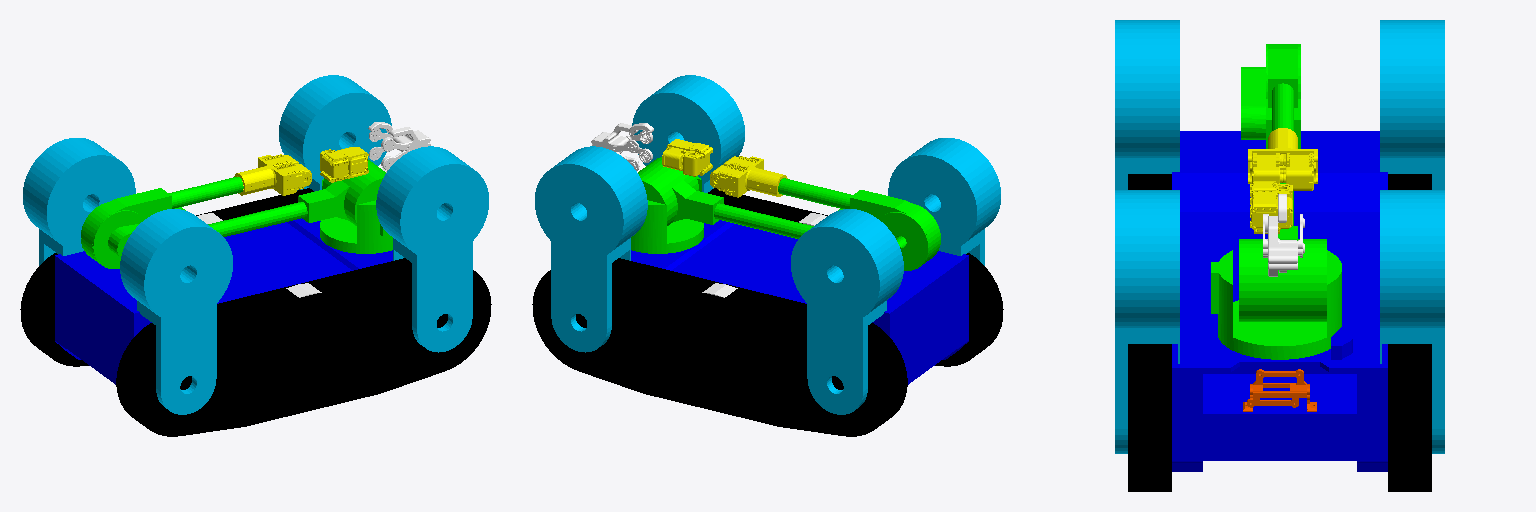
--- Render facts (derived) ---
The picture shows the robot from 3 angles, left to right: view 1: azimuth 30°, elevation 25°; view 2: azimuth 150°, elevation 25°; view 3: azimuth 270°, elevation 25°; orthographic projection.
Model arbie with 44 links and 43 joints (4 revolute, 13 continuous, 26 fixed), rooted at base_link, posed all joints at 0.
Visible links, largest first — view 1: tracks_right_link, flipper_front_right_link, flipper_rear_right_link, body_link, flipper_rear_left_link, flipper_front_left_link, arm_lower_link, tracks_left_link, arm_upper_link, arm_base_link, wrist_base_link, wrist_yaw_link (+1 smaller); view 2: tracks_left_link, flipper_front_left_link, flipper_rear_left_link, body_link, flipper_rear_right_link, flipper_front_right_link, arm_lower_link, tracks_right_link, arm_upper_link, arm_base_link, wrist_base_link, wrist_yaw_link (+1 smaller); view 3: body_link, flipper_front_right_link, flipper_front_left_link, flipper_rear_right_link, flipper_rear_left_link, arm_lower_link, tracks_right_link, tracks_left_link, arm_base_link, wrist_base_link, arm_upper_link, wrist_yaw_link (+2 smaller).
Boxes of the visible links, x1,y1,x2,y2 form: tracks_right_link: [116, 258, 491, 436]; flipper_front_right_link: [376, 146, 488, 352]; flipper_rear_right_link: [120, 209, 232, 414]; body_link: [55, 218, 392, 384]; flipper_rear_left_link: [23, 138, 135, 265]; flipper_front_left_link: [279, 75, 391, 191]; arm_lower_link: [81, 160, 385, 268]; tracks_left_link: [20, 188, 313, 366]; arm_upper_link: [81, 177, 243, 263]; arm_base_link: [320, 179, 392, 253]; wrist_base_link: [234, 154, 311, 195]; wrist_yaw_link: [320, 147, 368, 182]; tracks_left_link: [532, 258, 907, 436]; flipper_front_left_link: [535, 146, 647, 352]; flipper_rear_left_link: [791, 209, 903, 414]; body_link: [631, 220, 968, 384]; flipper_rear_right_link: [888, 138, 1000, 265]; flipper_front_right_link: [632, 75, 744, 192]; arm_lower_link: [638, 157, 940, 270]; tracks_right_link: [708, 188, 1003, 366]; arm_upper_link: [778, 178, 939, 263]; arm_base_link: [631, 176, 703, 253]; wrist_base_link: [710, 156, 787, 197]; wrist_yaw_link: [662, 139, 712, 176]; body_link: [1172, 131, 1387, 471]; flipper_front_right_link: [1115, 190, 1179, 453]; flipper_front_left_link: [1380, 190, 1444, 453]; flipper_rear_right_link: [1115, 20, 1179, 189]; flipper_rear_left_link: [1380, 20, 1444, 189]; arm_lower_link: [1239, 44, 1326, 321]; tracks_right_link: [1128, 174, 1171, 491]; tracks_left_link: [1388, 174, 1431, 491]; arm_base_link: [1211, 250, 1341, 359]; wrist_base_link: [1248, 128, 1317, 190]; arm_upper_link: [1268, 44, 1297, 130]; wrist_yaw_link: [1250, 181, 1292, 233].
Size in the robot's own frame: 0.6448 by 0.378 by 0.3753 metres.
Meshes: 25 distinct files referenced, 21 mesh visuals loaded (21 binary STL); not drawn: 4 (reference not matched to a file when rendering).

URDF robot description (arbie):
<?xml version="1.0" encoding="utf-8"?>
<!-- =================================================================================== -->
<!-- |    This document was autogenerated by xacro from ../model/arbie.urdf.xacro      | -->
<!-- |    EDITING THIS FILE BY HAND IS NOT RECOMMENDED                                 | -->
<!-- =================================================================================== -->
<robot name="arbie">
  <material name="body">
    <color rgba="0 0 1 1"/>
  </material>
  <material name="flipper">
    <color rgba="0 0.8 1 1"/>
  </material>
  <material name="tracks">
    <color rgba="0 0 0 0.5"/>
  </material>
  <material name="wheel">
    <color rgba="1 1 1 0.8"/>
  </material>
  <material name="arm">
    <color rgba="0 1 0 1"/>
  </material>
  <material name="wrist">
    <color rgba="1 1 0 1"/>
  </material>
  <material name="gripper">
    <color rgba="1 1 1 1"/>
  </material>
  <material name="camera">
    <color rgba="1 0.4 0 1"/>
  </material>
  <!-- BASE LINK -->
  <!-- At rotational centre of robot -->
  <link name="base_link">
</link>
  <joint name="base_joint" type="fixed">
    <origin rpy="1.5708 0 1.5708" xyz="0.01 0 0.075"/>
    <parent link="base_link"/>
    <child link="body_link"/>
  </joint>
  <!-- BODY LINK -->
  <link name="body_link">
    <inertial>
      <origin rpy="0 0 0" xyz="-0.0007103904794560104 0.04685539726506198 -0.03652499028281223"/>
      <mass value="132.38352048208554"/>
      <inertia ixx="3.87908" ixy="-0.00108" ixz="-0.002599" iyy="4.409886" iyz="0.163573" izz="0.920138"/>
    </inertial>
    <visual>
      <origin rpy="0 0 0" xyz="0 0 0"/>
      <geometry>
        <mesh filename="package://arbie_description/meshes/body.stl"/>
      </geometry>
      <material name="body"/>
    </visual>
    <collision>
      <origin rpy="0 0 0" xyz="0 0 0"/>
      <geometry>
        <mesh filename="package://arbie_description/meshes/body.stl"/>
      </geometry>
    </collision>
  </link>
  <!-- TRACK MESHES -->
  <!-- Bounding mesh for tracks, for collision detection -->
  <link name="tracks_right_link">
    <inertial>
      <origin rpy="0 0 0" xyz="-0.02499954358879042 0.002120489076708521 -0.0007430080149572974"/>
      <mass value="44.76242127990538"/>
      <inertia ixx="1.472289" ixy="-0.0" ixz="-0.0" iyy="1.350001" iyz="0.000109" izz="0.140939"/>
    </inertial>
    <visual>
      <origin rpy="0 0 0" xyz="0.124694 -0.019326 0.010978"/>
      <geometry>
        <mesh filename="package://arbie_description/meshes/tracks_right.stl"/>
      </geometry>
      <material name="tracks"/>
    </visual>
    <collision>
      <origin rpy="0 0 0" xyz="0.124694 -0.019326 0.010978"/>
      <geometry>
        <mesh filename="package://arbie_description/meshes/tracks_right.stl"/>
      </geometry>
    </collision>
  </link>
  <link name="tracks_left_link">
    <inertial>
      <origin rpy="0 0 0" xyz="0.02500045641121243 0.00212048907670849 -0.000743015955378042"/>
      <mass value="44.76242127990538"/>
      <inertia ixx="1.472289" ixy="-0.0" ixz="-0.0" iyy="1.350001" iyz="0.000109" izz="0.140939"/>
    </inertial>
    <visual>
      <origin rpy="0 0 0" xyz="-0.123306 -0.019326 0.010978"/>
      <geometry>
        <mesh filename="package://arbie_description/meshes/tracks_left.stl"/>
      </geometry>
      <material name="tracks"/>
    </visual>
    <collision>
      <origin rpy="0 0 0" xyz="-0.123306 -0.019326 0.010978"/>
      <geometry>
        <mesh filename="package://arbie_description/meshes/tracks_left.stl"/>
      </geometry>
    </collision>
  </link>
  <!-- RIGID JOINTS -->
  <joint name="rigid_body_to_tracks_right_joint" type="fixed">
    <origin rpy="0 0 0" xyz="-0.124694 0.019326 -0.010978"/>
    <parent link="body_link"/>
    <child link="tracks_right_link"/>
  </joint>
  <joint name="rigid_body_to_tracks_left_joint" type="fixed">
    <origin rpy="0 0 0" xyz="0.123306 0.019326 -0.010978"/>
    <parent link="body_link"/>
    <child link="tracks_left_link"/>
  </joint>
  <!-- CAMERA LINKS -->
  <link name="camera_mount_leg_1_link">
    <inertial>
      <origin rpy="0 0 0" xyz="-0.003687719231986318 0.005710165082249932 -1.3429420225863353e-07"/>
      <mass value="0.011972469965960587"/>
      <inertia ixx="1e-06" ixy="0.0" ixz="-0.0" iyy="0.0" iyz="0.0" izz="1e-06"/>
    </inertial>
    <visual>
      <origin rpy="0 0 0" xyz="-0.037807 -0.048101 -0.262572"/>
      <geometry>
        <mesh filename="package://arbie_description/meshes/camera_mount_leg_1.stl"/>
      </geometry>
      <material name="camera"/>
    </visual>
    <collision>
      <origin rpy="0 0 0" xyz="-0.037807 -0.048101 -0.262572"/>
      <geometry>
        <mesh filename="package://arbie_description/meshes/camera_mount_leg_1.stl"/>
      </geometry>
    </collision>
  </link>
  <link name="camera_mount_leg_2_link">
    <inertial>
      <origin rpy="0 0 0" xyz="0.0036876320544024996 0.005710165082249995 -1.3429420259170044e-07"/>
      <mass value="0.011972469965960601"/>
      <inertia ixx="1e-06" ixy="-0.0" ixz="0.0" iyy="0.0" iyz="-0.0" izz="1e-06"/>
    </inertial>
    <visual>
      <origin rpy="0 0 0" xyz="0.039194 -0.048101 -0.262572"/>
      <geometry>
        <mesh filename="package://arbie_description/meshes/camera_mount_leg_2.stl"/>
      </geometry>
      <material name="camera"/>
    </visual>
    <collision>
      <origin rpy="0 0 0" xyz="0.039194 -0.048101 -0.262572"/>
      <geometry>
        <mesh filename="package://arbie_description/meshes/camera_mount_leg_2.stl"/>
      </geometry>
    </collision>
  </link>
  <link name="camera_mount_link">
    <inertial>
      <origin rpy="0 0 0" xyz="-0.03446385172095636 0.0015631569649731947 0.008958079682170272"/>
      <mass value="0.10512980225278633"/>
      <inertia ixx="1.6e-05" ixy="-2e-06" ixz="1e-06" iyy="5.6e-05" iyz="3e-06" izz="5.4e-05"/>
    </inertial>
    <visual>
      <origin rpy="0 0 0" xyz="-0.033807 -0.073851 -0.262572"/>
      <geometry>
        <mesh filename="package://arbie_description/meshes/camera_mount.stl"/>
      </geometry>
      <material name="camera"/>
    </visual>
    <collision>
      <origin rpy="0 0 0" xyz="-0.033807 -0.073851 -0.262572"/>
      <geometry>
        <mesh filename="package://arbie_description/meshes/camera_mount.stl"/>
      </geometry>
    </collision>
  </link>
  <!-- RIGID JOINTS -->
  <joint name="rigid_body_to_camera_mount_leg_1_joint" type="fixed">
    <origin rpy="0 0 0" xyz="0.037807 0.048101 0.262572"/>
    <parent link="body_link"/>
    <child link="camera_mount_leg_1_link"/>
  </joint>
  <joint name="rigid_body_to_camera_mount_leg_2_joint" type="fixed">
    <origin rpy="0 0 0" xyz="-0.039194 0.048101 0.262572"/>
    <parent link="body_link"/>
    <child link="camera_mount_leg_2_link"/>
  </joint>
  <!-- CAMERA MOUNT JOINT -->
  <joint name="camera_tilt_joint" type="continuous">
    <origin rpy="0 0 0" xyz="-0.004 0.02575 0.0"/>
    <parent link="camera_mount_leg_1_link"/>
    <child link="camera_mount_link"/>
    <axis xyz="1 0 0"/>
  </joint>
  <transmission name="camera_mount_transmission">
    <type>transmission_interface/SimpleTransmission</type>
    <joint name="camera_tilt_joint">
      <hardwareInterface>hardware_interface/PositionJointInterface</hardwareInterface>
    </joint>
    <actuator name="camera_mount_actuator">
      <hardwareInterface>PositionJointInterface</hardwareInterface>
      <mechanicalReduction>1</mechanicalReduction>
    </actuator>
  </transmission>
  <!-- CAMERA SENSORS AND PLUGINS  -->
  <joint name="t265_to_camera_mount_fixed_joint" type="fixed">
    <parent link="camera_mount_link"/>
    <child link="t265_pose_frame"/>
    <origin rpy="-1.57079632679 -1.57079632679 0" xyz="-0.044 -0.0135 0.02"/>
  </joint>
  <!-- INTEL REALSENSE D435 -->
  <!-- INTEL REALSENSE R200 -->
  <!-- camera body, with origin at bottom screw mount -->
  <joint name="d400_joint" type="fixed">
    <origin rpy="-1.57079632679 -1.57079632679 0" xyz="-0.0345 0.004 0.011"/>
    <parent link="camera_mount_link"/>
    <child link="d400_bottom_screw_frame"/>
  </joint>
  <link name="d400_bottom_screw_frame"/>
  <joint name="d400_link_joint" type="fixed">
    <origin rpy="0 0 0" xyz="0 0.0175 0.0125"/>
    <parent link="d400_bottom_screw_frame"/>
    <child link="d400_link"/>
  </joint>
  <link name="d400_link">
    <visual>
      <origin rpy="1.57079632679 0 1.57079632679" xyz="0.0149 -0.0175 0"/>
      <geometry>
        <mesh filename="package://realsense_ros_gazebo/meshes/realsense_d435.stl"/>
      </geometry>
    </visual>
    <collision>
      <origin rpy="0 0 0" xyz="0 -0.0175 0"/>
      <geometry>
        <box size="0.02505 0.09 0.025"/>
      </geometry>
    </collision>
    <inertial>
      <mass value="0.564"/>
      <origin rpy="0 0 0" xyz="0 -0.0175 0"/>
      <inertia ixx="0.000410075" ixy="0" ixz="0" iyy="5.88676175e-05" iyz="0" izz="5.88676175e-05"/>
    </inertial>
  </link>
  <!-- camera depth joints and links -->
  <joint name="d400_depth_joint" type="fixed">
    <origin rpy="0 0 0" xyz="0 0 0"/>
    <parent link="d400_link"/>
    <child link="d400_depth_frame"/>
  </joint>
  <link name="d400_depth_frame"/>
  <joint name="d400_depth_optical_joint" type="fixed">
    <origin rpy="-1.57079632679 0 -1.57079632679" xyz="0 0 0"/>
    <parent link="d400_depth_frame"/>
    <child link="d400_depth_optical_frame"/>
  </joint>
  <link name="d400_depth_optical_frame"/>
  <!-- camera left IR joints and links -->
  <joint name="d400_left_ir_joint" type="fixed">
    <origin rpy="0 0 0" xyz="0 0.0 0"/>
    <parent link="d400_depth_frame"/>
    <child link="d400_left_ir_frame"/>
  </joint>
  <link name="d400_left_ir_frame"/>
  <joint name="d400_left_ir_optical_joint" type="fixed">
    <origin rpy="-1.57079632679 0 -1.57079632679" xyz="0 0 0"/>
    <parent link="d400_left_ir_frame"/>
    <child link="d400_left_ir_optical_frame"/>
  </joint>
  <link name="d400_left_ir_optical_frame"/>
  <!-- camera right IR joints and links -->
  <joint name="d400_right_ir_joint" type="fixed">
    <origin rpy="0 0 0" xyz="0 -0.05 0"/>
    <parent link="d400_depth_frame"/>
    <child link="d400_right_ir_frame"/>
  </joint>
  <link name="d400_right_ir_frame"/>
  <joint name="d400_right_ir_optical_joint" type="fixed">
    <origin rpy="-1.57079632679 0 -1.57079632679" xyz="0 0 0"/>
    <parent link="d400_right_ir_frame"/>
    <child link="d400_right_ir_optical_frame"/>
  </joint>
  <link name="d400_right_ir_optical_frame"/>
  <!-- camera color joints and links -->
  <joint name="d400_color_joint" type="fixed">
    <origin rpy="0 0 0" xyz="0 0.015 0"/>
    <parent link="d400_depth_frame"/>
    <child link="d400_color_frame"/>
  </joint>
  <link name="d400_color_frame"/>
  <joint name="d400_color_optical_joint" type="fixed">
    <origin rpy="-1.57079632679 0 -1.57079632679" xyz="0 0 0"/>
    <parent link="d400_color_frame"/>
    <child link="d400_color_optical_frame"/>
  </joint>
  <link name="d400_color_optical_frame"/>
  <!-- gazebo plugin -->
  <gazebo reference="d400_link">
    <self_collide>0</self_collide>
    <enable_wind>0</enable_wind>
    <kinematic>0</kinematic>
    <gravity>1</gravity>
    <mu2>1</mu2>
    <fdir1>0 0 0</fdir1>
    <kp>1e+13</kp>
    <kd>1</kd>
    <sensor name="d400_color" type="camera">
      <camera name="d400">
        <horizontal_fov>1.21125850088</horizontal_fov>
        <image>
          <width>640</width>
          <height>480</height>
          <format>RGB_INT8</format>
        </image>
        <clip>
          <near>0.1</near>
          <far>100</far>
        </clip>
        <noise>
          <type>gaussian</type>
          <mean>0.0</mean>
          <stddev>0.007</stddev>
        </noise>
      </camera>
      <always_on>1</always_on>
      <update_rate>30</update_rate>
      <visualize>1</visualize>
    </sensor>
    <sensor name="d400_ired1" type="camera">
      <camera name="d400">
        <horizontal_fov>1.4870205227</horizontal_fov>
        <image>
          <width>640</width>
          <height>480</height>
          <format>L_INT8</format>
        </image>
        <clip>
          <near>0.1</near>
          <far>100</far>
        </clip>
        <noise>
          <type>gaussian</type>
          <mean>0.0</mean>
          <stddev>0.05</stddev>
        </noise>
      </camera>
      <always_on>1</always_on>
      <update_rate>90</update_rate>
      <visualize>0</visualize>
    </sensor>
    <sensor name="d400_ired2" type="camera">
      <camera name="d400">
        <horizontal_fov>1.4870205227</horizontal_fov>
        <image>
          <width>640</width>
          <height>480</height>
          <format>L_INT8</format>
        </image>
        <clip>
          <near>0.1</near>
          <far>100</far>
        </clip>
        <noise>
          <type>gaussian</type>
          <mean>0.0</mean>
          <stddev>0.05</stddev>
        </noise>
      </camera>
      <always_on>1</always_on>
      <update_rate>90</update_rate>
      <visualize>0</visualize>
    </sensor>
    <sensor name="d400_depth" type="depth">
      <camera name="d400">
        <horizontal_fov>1.4870205227</horizontal_fov>
        <image>
          <width>640</width>
          <height>480</height>
        </image>
        <clip>
          <near>0.1</near>
          <far>100</far>
        </clip>
        <noise>
          <type>gaussian</type>
          <mean>0.0</mean>
          <stddev>0.100</stddev>
        </noise>
      </camera>
      <always_on>1</always_on>
      <update_rate>90</update_rate>
      <visualize>0</visualize>
    </sensor>
  </gazebo>
  <gazebo>
    <plugin filename="librealsense_gazebo_plugin.so" name="d400">
      <prefix>d400_</prefix>
      <depthUpdateRate>50</depthUpdateRate>
      <colorUpdateRate>50</colorUpdateRate>
      <infraredUpdateRate>50</infraredUpdateRate>
      <depthTopicName>aligned_depth_to_color/image_raw</depthTopicName>
      <depthCameraInfoTopicName>aligned_depth_to_color/camera_info</depthCameraInfoTopicName>
      <colorTopicName>color/image_raw</colorTopicName>
      <colorCameraInfoTopicName>color/camera_info</colorCameraInfoTopicName>
      <infrared1TopicName>infra1/image_raw</infrared1TopicName>
      <infrared1CameraInfoTopicName>infra1/camera_info</infrared1CameraInfoTopicName>
      <infrared2TopicName>infra2/image_raw</infrared2TopicName>
      <infrared2CameraInfoTopicName>infra2/camera_info</infrared2CameraInfoTopicName>
      <colorOpticalframeName>d400_color_optical_frame</colorOpticalframeName>
      <depthOpticalframeName>d400_depth_optical_frame</depthOpticalframeName>
      <infrared1OpticalframeName>d400_infrared1_optical_frame</infrared1OpticalframeName>
      <infrared2OpticalframeName>d400_infrared2_optical_frame</infrared2OpticalframeName>
      <rangeMinDepth>0.2</rangeMinDepth>
      <rangeMaxDepth>10.0</rangeMaxDepth>
      <pointCloud>false</pointCloud>
      <pointCloudTopicName>depth/color/points</pointCloudTopicName>
      <pointCloudCutoff>0.25</pointCloudCutoff>
      <pointCloudCutoffMax>9.0</pointCloudCutoffMax>
    </plugin>
  </gazebo>
  <!-- T265 Fisheye:

  gazebo_ros_camera supports only plumb_bob
  D: [-0.007419134024530649, 0.041209351271390915, -0.03811917081475258, 0.006366158835589886, 0.0]

  <distortionK1>-0.007419134024530649</distortionK1>
  <distortionK2>0.041209351271390915</distortionK2>
  <distortionK3>-0.03811917081475258</distortionK3>
  <distortionT1>0.006366158835589886</distortionT1>
  <distortionT2>0.0</distortionT2>

       [fx'  0  cx' Tx]
   P = [ 0  fy' cy' Ty]
       [ 0   0   1   0]

   P : [ 285.5480041503906, 0.0, 416.00531005859375, 0.0,
         0.0, 285.3793029785156, 403.38909912109375, 0.0,
         0.0, 0.0, 1.0, 0.0 ]

  <CxPrime>416.00531005859375</CxPrime>

       [fx  0 cx]
   K = [ 0 fy cy]
       [ 0  0  1]

   K : [ 285.5480041503906, 0.0, 416.00531005859375,
         0.0, 285.3793029785156, 403.38909912109375,
         0.0, 0.0, 1.0]

  <Cx>16.00531005859375</Cx>
  <Cy>403.38909912109375</Cy>

  -->
  <!-- INTEL REALSENSE T265 -->
  <!-- Removed joint to parent link. Add externally. -->
  <link name="t265_pose_frame"/>
  <joint name="t265_pose_joint" type="fixed">
    <origin rpy="0 0 0" xyz="0 0 0"/>
    <parent link="t265_pose_frame"/>
    <child link="t265_link"/>
  </joint>
  <link name="t265_link">
    <visual>
      <origin rpy="1.57 0 1.57" xyz="0 0 0"/>
      <geometry>
        <mesh filename="package://realsense_ros_gazebo/meshes/realsense_t265.stl" scale="0.001 0.001 0.001"/>
      </geometry>
    </visual>
    <collision>
      <geometry>
        <box size="0.013 0.108 0.024"/>
      </geometry>
    </collision>
    <inertial>
      <mass value="0.055"/>
      <origin rpy="0 0 0" xyz="0 0 0"/>
      <inertia ixx="9.108e-05" ixy="0" ixz="0" iyy="2.51e-06" iyz="0" izz="8.931e-05"/>
    </inertial>
  </link>
  <joint name="t265_fisheye1_joint" type="fixed">
    <parent link="t265_link"/>
    <child link="t265_fisheye1_frame"/>
    <origin rpy="0 0 0" xyz="0 0.042 0"/>
  </joint>
  <link name="t265_fisheye1_frame"/>
  <joint name="t265_fisheye1_optical_joint" type="fixed">
    <parent link="t265_fisheye1_frame"/>
    <child link="t265_fisheye1_optical_frame"/>
    <origin rpy="0 0 0" xyz="0.01 0 0"/>
  </joint>
  <link name="t265_fisheye1_optical_frame"/>
  <gazebo reference="t265_fisheye1_optical_frame">
    <sensor name="camera" type="wideanglecamera">
      <camera>
        <horizontal_fov>6.283</horizontal_fov>
        <image>
          <width>800</width>
          <height>848</height>
        </image>
        <clip>
          <near>0.1</near>
          <far>100</far>
        </clip>
        <lens>
          <type>custom</type>
          <custom_function>
            <c1>1.05</c1>
            <c2>4</c2>
            <f>1.0</f>
            <fun>tan</fun>
          </custom_function>
          <scale_to_hfov>true</scale_to_hfov>
          <cutoff_angle>3.1415</cutoff_angle>
          <env_texture_size>512</env_texture_size>
        </lens>
        <always_on>true</always_on>
        <update_rate>30</update_rate>
      </camera>
      <plugin filename="libgazebo_ros_camera.so" name="camera_controller">
        <alwaysOn>true</alwaysOn>
        <updateRate>50</updateRate>
        <cameraName>t265/fisheye1</cameraName>
        <imageTopicName>image_raw</imageTopicName>
        <cameraInfoTopicName>camera_info</cameraInfoTopicName>
        <frameName>t265_fisheye1_optical_frame</frameName>
        <hackBaseline>0.07</hackBaseline>
        <distortionK1>-0.007419134024530649</distortionK1>
        <distortionK2>0.041209351271390915</distortionK2>
        <distortionK3>-0.03811917081475258</distortionK3>
        <distortionT1>0.006366158835589886</distortionT1>
        <distortionT2>0.0</distortionT2>
        <CxPrime>416.00531005859375</CxPrime>
        <Cx>16.00531005859375</Cx>
        <Cy>403.38909912109375</Cy>
      </plugin>
    </sensor>
  </gazebo>
  <joint name="t265_fisheye2_joint" type="fixed">
    <parent link="t265_link"/>
    <child link="t265_fisheye2_frame"/>
    <origin rpy="0 0 0" xyz="0 -0.022 0"/>
  </joint>
  <link name="t265_fisheye2_frame"/>
  <joint name="t265_fisheye2_optical_joint" type="fixed">
    <parent link="t265_fisheye2_frame"/>
    <child link="t265_fisheye2_optical_frame"/>
    <origin rpy="0 0 0" xyz="0.01 0 0"/>
  </joint>
  <link name="t265_fisheye2_optical_frame"/>
  <gazebo reference="t265_fisheye2_optical_frame">
    <sensor name="camera" type="wideanglecamera">
      <camera>
        <horizontal_fov>6.283</horizontal_fov>
        <image>
          <width>800</width>
          <height>848</height>
        </image>
        <clip>
          <near>0.1</near>
          <far>100</far>
        </clip>
        <lens>
          <type>custom</type>
          <custom_function>
            <c1>1.05</c1>
            <c2>4</c2>
            <f>1.0</f>
            <fun>tan</fun>
          </custom_function>
          <scale_to_hfov>true</scale_to_hfov>
          <cutoff_angle>3.1415</cutoff_angle>
          <env_texture_size>512</env_texture_size>
        </lens>
        <always_on>true</always_on>
        <update_rate>30</update_rate>
      </camera>
      <plugin filename="libgazebo_ros_camera.so" name="camera_controller">
        <alwaysOn>true</alwaysOn>
        <updateRate>50</updateRate>
        <cameraName>t265/fisheye2</cameraName>
        <imageTopicName>image_raw</imageTopicName>
        <cameraInfoTopicName>camera_info</cameraInfoTopicName>
        <frameName>t265_fisheye2_optical_frame</frameName>
        <hackBaseline>0.07</hackBaseline>
        <distortionK1>-0.007419134024530649</distortionK1>
        <distortionK2>0.041209351271390915</distortionK2>
        <distortionK3>-0.03811917081475258</distortionK3>
        <distortionT1>0.006366158835589886</distortionT1>
        <distortionT2>0.0</distortionT2>
        <CxPrime>416.00531005859375</CxPrime>
        <Cx>16.00531005859375</Cx>
        <Cy>403.38909912109375</Cy>
      </plugin>
    </sensor>
  </gazebo>
  <joint name="t265_gyro_joint" type="fixed">
    <parent link="t265_link"/>
    <child link="t265_gyro_frame"/>
    <origin rpy="0 0 0" xyz="0 0 0"/>
    <!-- check on real hw -->
  </joint>
  <link name="t265_gyro_frame"/>
  <gazebo reference="t265_gyro_frame">
    <gravity>true</gravity>
    <sensor name="t265_imu" type="imu">
      <always_on>true</always_on>
      <update_rate>50</update_rate>
      <visualize>false</visualize>
      <plugin filename="libgazebo_ros_imu_sensor.so" name="imu_plugin">
        <topicName>t265/gyro/sample</topicName>
        <bodyName>t265_link</bodyName>
        <updateRateHZ>50</updateRateHZ>
        <gaussianNoise>0.000001</gaussianNoise>
        <xyzOffset>0 0 0</xyzOffset>
        <rpyOffset>0 0 0</rpyOffset>
        <frameName>t265_link</frameName>
      </plugin>
    </sensor>
  </gazebo>
  <joint name="t265_accel_joint" type="fixed">
    <parent link="t265_link"/>
    <child link="t265_accel_frame"/>
    <origin rpy="0 0 0" xyz="0 0 0"/>
    <!-- check on real hw -->
  </joint>
  <link name="t265_accel_frame"/>
  <!-- dummy -->
  <!-- For simplicity, just publishes odometry for base_link
    Otherwise, the t265_pose_link has to become the base link -->
  <!-- Also, need to set frameName to world, since the plugin
    complains if the frame doesn't exist. However, this is
    renamed to odom when publishing tf -->
  <gazebo>
    <plugin filename="libgazebo_ros_p3d.so" name="p3d_base_controller">
      <alwaysOn>true</alwaysOn>
      <updateRate>50</updateRate>
      <bodyName>base_link</bodyName>
      <topicName>t265/odom/sample</topicName>
      <gaussianNoise>0.001</gaussianNoise>
      <frameName>world</frameName>
      <xyzOffsets>0 0 0</xyzOffsets>
      <rpyOffsets>0 0 0</rpyOffsets>
    </plugin>
  </gazebo>
  <!-- FLIPPER LINKS -->
  <link name="flipper_front_right_link">
    <inertial>
      <origin rpy="0 0 0" xyz="0.019795020283170317 0.16537558379618636 -1.3146244423611897e-07"/>
      <mass value="13.868020437393694"/>
      <inertia ixx="0.085351" ixy="-0.004876" ixz="0.0" iyy="0.028555" iyz="-0.0" izz="0.07162"/>
    </inertial>
    <visual>
      <origin rpy="0 0 0" xyz="0.174694 -0.024729 -0.219022"/>
      <geometry>
        <mesh filename="package://arbie_description/meshes/flipper_front_right.stl"/>
      </geometry>
      <material name="flipper"/>
    </visual>
    <collision>
      <origin rpy="0 0 0" xyz="0.174694 -0.024729 -0.219022"/>
      <geometry>
        <mesh filename="package://arbie_description/meshes/flipper_front_right.stl"/>
      </geometry>
    </collision>
  </link>
  <link name="flipper_front_left_link">
    <inertial>
      <origin rpy="0 0 0" xyz="-0.019794107460748195 0.16537558379618633 -1.394028636692024e-07"/>
      <mass value="13.868020437393678"/>
      <inertia ixx="0.085351" ixy="0.004876" ixz="-0.0" iyy="0.028555" iyz="-0.0" izz="0.07162"/>
    </inertial>
    <visual>
      <origin rpy="0 0 0" xyz="-0.173306 -0.024729 -0.219022"/>
      <geometry>
        <mesh filename="package://arbie_description/meshes/flipper_front_left.stl"/>
      </geometry>
      <material name="flipper"/>
    </visual>
    <collision>
      <origin rpy="0 0 0" xyz="-0.173306 -0.024729 -0.219022"/>
      <geometry>
        <mesh filename="package://arbie_description/meshes/flipper_front_left.stl"/>
      </geometry>
    </collision>
  </link>
  <link name="flipper_rear_right_link">
    <inertial>
      <origin rpy="0 0 0" xyz="0.01979502028317115 0.16537558379618683 -1.3146242511252737e-07"/>
      <mass value="13.868020437393698"/>
      <inertia ixx="0.085351" ixy="-0.004876" ixz="0.0" iyy="0.028555" iyz="-0.0" izz="0.07162"/>
    </inertial>
    <visual>
      <origin rpy="0 0 0" xyz="0.174694 -0.024729 0.240978"/>
      <geometry>
        <mesh filename="package://arbie_description/meshes/flipper_rear_right.stl"/>
      </geometry>
      <material name="flipper"/>
    </visual>
    <collision>
      <origin rpy="0 0 0" xyz="0.174694 -0.024729 0.240978"/>
      <geometry>
        <mesh filename="package://arbie_description/meshes/flipper_rear_right.stl"/>
      </geometry>
    </collision>
  </link>
  <link name="flipper_rear_left_link">
    <inertial>
      <origin rpy="0 0 0" xyz="-0.019794107460749416 0.16537558379618675 -1.394028462664565e-07"/>
      <mass value="13.868020437393671"/>
      <inertia ixx="0.085351" ixy="0.004876" ixz="-0.0" iyy="0.028555" iyz="-0.0" izz="0.07162"/>
    </inertial>
    <visual>
      <origin rpy="0 0 0" xyz="-0.173306 -0.024729 0.240978"/>
      <geometry>
        <mesh filename="package://arbie_description/meshes/flipper_rear_left.stl"/>
      </geometry>
      <material name="flipper"/>
    </visual>
    <collision>
      <origin rpy="0 0 0" xyz="-0.173306 -0.024729 0.240978"/>
      <geometry>
        <mesh filename="package://arbie_description/meshes/flipper_rear_left.stl"/>
      </geometry>
    </collision>
  </link>
  <!-- RIGID JOINTS -->
  <joint name="rigid_flipper_front_right_to_flipper_front_left" type="fixed">
    <origin rpy="0 0 0" xyz="0.347996 0 0"/>
    <parent link="flipper_front_right_link"/>
    <child link="flipper_front_left_link"/>
  </joint>
  <joint name="rigid_flipper_rear_right_to_flipper_rear_left" type="fixed">
    <origin rpy="0 0 0" xyz="0.347996 0 0"/>
    <parent link="flipper_rear_right_link"/>
    <child link="flipper_rear_left_link"/>
  </joint>
  <!-- FLIPPER JOINTS -->
  <joint name="flippers_front_joint" type="continuous">
    <origin rpy="0 0 0" xyz="-0.05 0.005403 0.23"/>
    <parent link="tracks_right_link"/>
    <child link="flipper_front_right_link"/>
    <axis xyz="1 0 0"/>
  </joint>
  <transmission name="flippers_front_transmission">
    <type>transmission_interface/SimpleTransmission</type>
    <joint name="flippers_front_joint">
      <hardwareInterface>hardware_interface/VelocityJointInterface</hardwareInterface>
    </joint>
    <actuator name="flippers_front_actuator">
      <hardwareInterface>VelocityJointInterface</hardwareInterface>
      <mechanicalReduction>1</mechanicalReduction>
    </actuator>
  </transmission>
  <joint name="flippers_rear_joint" type="continuous">
    <origin rpy="0 0 0" xyz="-0.05 0.005403 -0.23"/>
    <parent link="tracks_right_link"/>
    <child link="flipper_rear_right_link"/>
    <axis xyz="1 0 0"/>
  </joint>
  <transmission name="flippers_rear_transmission">
    <type>transmission_interface/SimpleTransmission</type>
    <joint name="flippers_rear_joint">
      <hardwareInterface>hardware_interface/VelocityJointInterface</hardwareInterface>
    </joint>
    <actuator name="flippers_rear_actuator">
      <hardwareInterface>VelocityJointInterface</hardwareInterface>
      <mechanicalReduction>1</mechanicalReduction>
    </actuator>
  </transmission>
  <!-- EQUIVALENT WHEELS FOR TRACKS -->
  <!-- Used for differential drive controller for kinematics -->
  <!-- Macro to create wheel link with appropriate inertia -->
  <link name="tracks_right_wheel_link">
    <visual>
      <origin rpy="0 1.57079632679 0" xyz="0 0 0"/>
      <geometry>
        <cylinder length="0.04" radius="0.1"/>
      </geometry>
      <material name="wheel"/>
    </visual>
    <collision>
      <origin rpy="0 1.57079632679 0" xyz="0 0 0"/>
      <geometry>
        <cylinder length="0.04" radius="0.1"/>
      </geometry>
    </collision>
    <inertial>
      <origin rpy="0 1.57079632679 0" xyz="0 0 0"/>
      <mass value="0.5"/>
      <inertia ixx="0.00131666666667" ixy="0" ixz="0" iyy="0.00131666666667" iyz="0" izz="0.0025"/>
    </inertial>
  </link>
  <link name="tracks_left_wheel_link">
    <visual>
      <origin rpy="0 1.57079632679 0" xyz="0 0 0"/>
      <geometry>
        <cylinder length="0.04" radius="0.1"/>
      </geometry>
      <material name="wheel"/>
    </visual>
    <collision>
      <origin rpy="0 1.57079632679 0" xyz="0 0 0"/>
      <geometry>
        <cylinder length="0.04" radius="0.1"/>
      </geometry>
    </collision>
    <inertial>
      <origin rpy="0 1.57079632679 0" xyz="0 0 0"/>
      <mass value="0.5"/>
      <inertia ixx="0.00131666666667" ixy="0" ixz="0" iyy="0.00131666666667" iyz="0" izz="0.0025"/>
    </inertial>
  </link>
  <!-- TRACK WHEEL JOINTS -->
  <joint name="tracks_right_joint" type="continuous">
    <origin rpy="0 0 0" xyz="-0.025 0.0 0.0"/>
    <parent link="tracks_right_link"/>
    <child link="tracks_right_wheel_link"/>
    <axis xyz="1 0 0"/>
  </joint>
  <joint name="tracks_left_joint" type="continuous">
    <origin rpy="0 0 0" xyz="0.025 0.0 0.0"/>
    <parent link="tracks_left_link"/>
    <child link="tracks_left_wheel_link"/>
    <axis xyz="1 0 0"/>
  </joint>
  <transmission name="tracks_right_transmission">
    <type>transmission_interface/SimpleTransmission</type>
    <joint name="tracks_right_joint">
      <hardwareInterface>hardware_interface/VelocityJointInterface</hardwareInterface>
    </joint>
    <actuator name="tracks_right_actuator">
      <hardwareInterface>VelocityJointInterface</hardwareInterface>
      <mechanicalReduction>1</mechanicalReduction>
    </actuator>
  </transmission>
  <transmission name="tracks_left_transmission">
    <type>transmission_interface/SimpleTransmission</type>
    <joint name="tracks_left_joint">
      <hardwareInterface>hardware_interface/VelocityJointInterface</hardwareInterface>
    </joint>
    <actuator name="tracks_left_actuator">
      <hardwareInterface>VelocityJointInterface</hardwareInterface>
      <mechanicalReduction>1</mechanicalReduction>
    </actuator>
  </transmission>
  <!-- ARM LINKS -->
  <link name="arm_base_link">
    <inertial>
      <origin rpy="0 0 0" xyz="-0.0016420049931783305 0.023135022831294483 -7.480052882286037e-06"/>
      <mass value="3.3465093478653403"/>
      <inertia ixx="0.005075" ixy="0.000176" ixz="-0.0" iyy="0.010632" iyz="1e-06" izz="0.009087"/>
    </inertial>
    <visual>
      <origin rpy="0 0 0" xyz="0.000694 -0.107101 -0.186272"/>
      <geometry>
        <mesh filename="package://arbie_description/meshes/arm_base.stl"/>
      </geometry>
      <material name="arm"/>
    </visual>
    <collision>
      <origin rpy="0 0 0" xyz="0.000694 -0.107101 -0.186272"/>
      <geometry>
        <mesh filename="package://arbie_description/meshes/arm_base.stl"/>
      </geometry>
    </collision>
  </link>
  <link name="arm_lower_link">
    <inertial>
      <origin rpy="0 0 0" xyz="-0.053878611230066 0.007243666919340863 -0.13003163766238773"/>
      <mass value="9.290217371436244"/>
      <inertia ixx="0.285483" ixy="0.000938" ixz="-0.009995" iyy="0.285913" iyz="0.0181" izz="0.011485"/>
    </inertial>
    <visual>
      <origin rpy="0 0 0" xyz="-0.052806 -0.174101 -0.186495"/>
      <geometry>
        <mesh filename="package://arbie_description/meshes/arm_lower.stl"/>
      </geometry>
      <material name="arm"/>
    </visual>
    <collision>
      <origin rpy="0 0 0" xyz="-0.052806 -0.174101 -0.186495"/>
      <geometry>
        <mesh filename="package://arbie_description/meshes/arm_lower.stl"/>
      </geometry>
    </collision>
  </link>
  <link name="arm_upper_link">
    <inertial>
      <origin rpy="0 0 0" xyz="-0.016999544747906395 0.013376208584352511 0.039239753662060034"/>
      <mass value="3.0631873001334227"/>
      <inertia ixx="0.015235" ixy="0.0" ixz="0.0" iyy="0.013273" iyz="-0.002633" izz="0.002494"/>
    </inertial>
    <visual>
      <origin rpy="0 0 0" xyz="-0.019806 -0.209101 0.263505"/>
      <geometry>
        <mesh filename="package://arbie_description/meshes/arm_upper.stl"/>
      </geometry>
      <material name="arm"/>
    </visual>
    <collision>
      <origin rpy="0 0 0" xyz="-0.019806 -0.209101 0.263505"/>
      <geometry>
        <mesh filename="package://arbie_description/meshes/arm_upper.stl"/>
      </geometry>
    </collision>
  </link>
  <!-- WRIST LINKS -->
  <link name="wrist_base_link">
    <inertial>
      <origin rpy="0 0 0" xyz="4.57436623640603e-07 0.00012475245793225342 0.025292868333247724"/>
      <mass value="0.9490572232520995"/>
      <inertia ixx="0.000757" ixy="1e-06" ixz="-0.0" iyy="0.001107" iyz="2e-06" izz="0.000496"/>
    </inertial>
    <visual>
      <origin rpy="0 0 0" xyz="-0.002806 -0.244101 0.038505"/>
      <geometry>
        <mesh filename="package://arbie_description/meshes/wrist_base.stl"/>
      </geometry>
      <material name="wrist"/>
    </visual>
    <collision>
      <origin rpy="0 0 0" xyz="-0.002806 -0.244101 0.038505"/>
      <geometry>
        <mesh filename="package://arbie_description/meshes/wrist_base.stl"/>
      </geometry>
    </collision>
  </link>
  <link name="wrist_pitch_link">
    <inertial>
      <origin rpy="0 0 0" xyz="-0.0332984740595477 0.0020671950198172806 0.02282064850736746"/>
      <mass value="0.08039663104912372"/>
      <inertia ixx="5.5e-05" ixy="0.0" ixz="0.0" iyy="9.5e-05" iyz="-7e-06" izz="8e-05"/>
    </inertial>
    <visual>
      <origin rpy="0 0 0" xyz="-0.036206 -0.244101 -0.014995"/>
      <geometry>
        <mesh filename="package://arbie_description/meshes/wrist_pitch.stl"/>
      </geometry>
      <material name="wrist"/>
    </visual>
    <collision>
      <origin rpy="0 0 0" xyz="-0.036206 -0.244101 -0.014995"/>
      <geometry>
        <mesh filename="package://arbie_description/meshes/wrist_pitch.stl"/>
      </geometry>
    </collision>
  </link>
  <link name="wrist_yaw_link">
    <inertial>
      <origin rpy="0 0 0" xyz="-0.013267784777998575 0.01927575393175185 0.016285676232992735"/>
      <mass value="0.6469480906726006"/>
      <inertia ixx="0.000275" ixy="2e-06" ixz="2e-06" iyy="0.000342" iyz="3e-06" izz="0.000171"/>
    </inertial>
    <visual>
      <origin rpy="0 0 0" xyz="-0.002906 -0.225651 -0.078119"/>
      <geometry>
        <mesh filename="package://arbie_description/meshes/wrist_yaw.stl"/>
      </geometry>
      <material name="wrist"/>
    </visual>
    <collision>
      <origin rpy="0 0 0" xyz="-0.002906 -0.225651 -0.078119"/>
      <geometry>
        <mesh filename="package://arbie_description/meshes/wrist_yaw.stl"/>
      </geometry>
    </collision>
  </link>
  <!-- GRIPPER LINKS
<inertial> for gripper contact and linkage links are commented out.
Only the driver link of the gripper is included. It is possible to add in the
whole parallel linkage, but it is difficult to get right and is unstable,
so am just omitting it for now. It's not that important to simulate this.
-->
  <link name="gripper_base_link">
    <inertial>
      <origin rpy="0 0 0" xyz="-4.607760189011137e-05 -0.0006917471996047975 0.03460710409065769"/>
      <mass value="0.6706735500880907"/>
      <inertia ixx="0.000199" ixy="0.0" ixz="0.0" iyy="0.000353" iyz="-3e-06" izz="0.000284"/>
    </inertial>
    <visual>
      <origin rpy="0 0 0" xyz="-0.002906 -0.244651 -0.123519"/>
      <geometry>
        <mesh filename="package://arbie_description/meshes/gripper_base.stl"/>
      </geometry>
      <material name="gripper"/>
    </visual>
    <collision>
      <origin rpy="0 0 0" xyz="-0.002906 -0.244651 -0.123519"/>
      <geometry>
        <mesh filename="package://arbie_description/meshes/gripper_base.stl"/>
      </geometry>
    </collision>
  </link>
  <link name="gripper_right_driver_link">
    <inertial>
      <origin rpy="0 0 0" xyz="4.537220775792383e-07 -0.03094002747411953 0.004350576193156569"/>
      <mass value="0.01374798583124482"/>
      <inertia ixx="5e-06" ixy="-0.0" ixz="0.0" iyy="2e-06" iyz="-1e-06" izz="4e-06"/>
    </inertial>
    <visual>
      <origin rpy="0 0 0" xyz="-0.018906 -0.263651 -0.172219"/>
      <geometry>
        <mesh filename="package://arbie_description/meshes/gripper_right_driver.stl"/>
      </geometry>
      <material name="gripper"/>
    </visual>
    <collision>
      <origin rpy="0 0 0" xyz="-0.018906 -0.263651 -0.172219"/>
      <geometry>
        <mesh filename="package://arbie_description/meshes/gripper_right_driver.stl"/>
      </geometry>
    </collision>
  </link>
  <link name="gripper_right_linkage_link">
    <!--<inertial>
    <origin rpy="0 0 0" xyz="0.005348977862044579 0.00500022075444323 -0.01750042810563407"/>
    <mass value="0.00386409068463368"/>
    <inertia ixx="1e-06" ixy="0.0" ixz="0.0" iyy="1e-06" iyz="-0.0" izz="0.0"/>
  </inertial>-->
    <visual>
      <origin rpy="0 0 0" xyz="0.015 -0.485 -0.09"/>
      <geometry>
        <mesh filename="package://arbie_description/meshes/gripper_right_linkage.stl"/>
      </geometry>
      <material name="gripper"/>
    </visual>
    <collision>
      <origin rpy="0 0 0" xyz="0.015 -0.485 -0.09"/>
      <geometry>
        <mesh filename="package://arbie_description/meshes/gripper_right_linkage.stl"/>
      </geometry>
    </collision>
  </link>
  <link name="gripper_right_contact_link">
    <!--<inertial>
    <origin rpy="0 0 0" xyz="0.004967829686739981 -0.01899661466926142 0.016466890477460472"/>
    <mass value="0.023712538812289255"/>
    <inertia ixx="7e-06" ixy="1e-06" ixz="2e-06" iyy="7e-06" iyz="-1e-06" izz="4e-06"/>
  </inertial>-->
    <visual>
      <origin rpy="0 0 0" xyz="-0.018906 -0.261251 -0.207219"/>
      <geometry>
        <mesh filename="package://arbie_description/meshes/gripper_right_contact.stl"/>
      </geometry>
      <material name="gripper"/>
    </visual>
    <collision>
      <origin rpy="0 0 0" xyz="-0.018906 -0.261251 -0.207219"/>
      <geometry>
        <mesh filename="package://arbie_description/meshes/gripper_right_contact.stl"/>
      </geometry>
    </collision>
  </link>
  
--&gt;


  <link name="gripper_left_driver_link">
    <inertial>
      <origin rpy="0 0 0" xyz="4.552690735497994e-07 -0.030940033304886344 0.004350583148282683"/>
      <mass value="0.013747989643093032"/>
      <inertia ixx="5e-06" ixy="0.0" ixz="0.0" iyy="2e-06" iyz="-1e-06" izz="4e-06"/>
    </inertial>
    <visual>
      <origin rpy="0 0 0" xyz="0.013094 -0.263651 -0.172219"/>
      <geometry>
        <mesh filename="package://arbie_description/meshes/gripper_left_driver.stl"/>
      </geometry>
      <material name="gripper"/>
    </visual>
    <collision>
      <origin rpy="0 0 0" xyz="0.013094 -0.263651 -0.172219"/>
      <geometry>
        <mesh filename="package://arbie_description/meshes/gripper_left_driver.stl"/>
      </geometry>
    </collision>
  </link>
  <link name="gripper_left_contact_link">
    <!--<inertial>
    <origin rpy="0 0 0" xyz="-0.0049669191825520796 -0.01899661466926142 0.016466890477460527"/>
    <mass value="0.023712538812289255"/>
    <inertia ixx="7e-06" ixy="-1e-06" ixz="-2e-06" iyy="7e-06" iyz="-1e-06" izz="4e-06"/>
  </inertial>-->
    <visual>
      <origin rpy="0 0 0" xyz="0.013094 -0.261251 -0.207219"/>
      <geometry>
        <mesh filename="package://arbie_description/meshes/gripper_left_contact.stl"/>
      </geometry>
      <material name="gripper"/>
    </visual>
    <collision>
      <origin rpy="0 0 0" xyz="0.013094 -0.261251 -0.207219"/>
      <geometry>
        <mesh filename="package://arbie_description/meshes/gripper_left_contact.stl"/>
      </geometry>
    </collision>
  </link>
  <link name="gripper_left_linkage_link">
    <!--<inertial>
    <origin rpy="0 0 0" xyz="-0.005348977862044579 0.00500022075444323 0.01750042810563407"/>
    <mass value="0.00386409068463368"/>
    <inertia ixx="1e-06" ixy="0.0" ixz="0.0" iyy="1e-06" iyz="-0.0" izz="0.0"/>
  </inertial>-->
    <visual>
      <origin rpy="0 0 0" xyz="0.03671 -0.238651 -0.153719"/>
      <geometry>
        <mesh filename="package://arbie_description/meshes/gripper_left_linkage.stl"/>
      </geometry>
      <material name="gripper"/>
    </visual>
    <collision>
      <origin rpy="0 0 0" xyz="0.03671 -0.238651 -0.153719"/>
      <geometry>
        <mesh filename="package://arbie_description/meshes/gripper_left_linkage.stl"/>
      </geometry>
    </collision>
  </link>
  <!-- RIGID JOINTS -->
  <joint name="rigid_arm_upper_to_wrist_base_joint" type="fixed">
    <origin rpy="0 0 0" xyz="-0.017 0.035 0.27"/>
    <parent link="arm_upper_link"/>
    <child link="wrist_base_link"/>
  </joint>
  <!-- ARM JOINTS -->
  <joint name="arm_1_joint" type="continuous">
    <origin rpy="0 0 0" xyz="-0.000694 0.107101 0.186272"/>
    <parent link="body_link"/>
    <child link="arm_base_link"/>
    <axis xyz="0 1 0"/>
  </joint>
  <transmission name="arm_1_tran">
    <type>transmission_interface/SimpleTransmission</type>
    <joint name="arm_1_joint">
      <hardwareInterface>hardware_interface/PositionJointInterface</hardwareInterface>
    </joint>
    <actuator name="arm_1_actuator">
      <hardwareInterface>PositionJointInterface</hardwareInterface>
      <mechanicalReduction>1</mechanicalReduction>
    </actuator>
  </transmission>
  <joint name="arm_2_joint" type="revolute">
    <origin rpy="0 0 0" xyz="0.0535 0.067 0.000223"/>
    <parent link="arm_base_link"/>
    <child link="arm_lower_link"/>
    <axis xyz="1 0 0"/>
    <limit effort="1000.0" lower="0.0" upper="3.14159265359" velocity="1"/>
  </joint>
  <transmission name="arm_2_transmission">
    <type>transmission_interface/SimpleTransmission</type>
    <joint name="arm_2_joint">
      <hardwareInterface>hardware_interface/PositionJointInterface</hardwareInterface>
    </joint>
    <actuator name="arm_2_actuator">
      <hardwareInterface>PositionJointInterface</hardwareInterface>
      <mechanicalReduction>1</mechanicalReduction>
    </actuator>
  </transmission>
  <joint name="arm_3_joint" type="revolute">
    <origin rpy="0 0 0" xyz="-0.033 0.035 -0.45"/>
    <parent link="arm_lower_link"/>
    <child link="arm_upper_link"/>
    <axis xyz="-1 0 0"/>
    <limit effort="1000.0" lower="0.0" upper="3.14159265359" velocity="1"/>
  </joint>
  <transmission name="arm_3_transmission">
    <type>transmission_interface/SimpleTransmission</type>
    <joint name="arm_3_joint">
      <hardwareInterface>hardware_interface/PositionJointInterface</hardwareInterface>
    </joint>
    <actuator name="arm_3_actuator">
      <hardwareInterface>PositionJointInterface</hardwareInterface>
      <mechanicalReduction>1</mechanicalReduction>
    </actuator>
  </transmission>
  <!-- WRIST JOINTS -->
  <joint name="wrist_pitch_joint" type="revolute">
    <origin rpy="0 0 0" xyz="0.0334 0.0 0.0535"/>
    <parent link="wrist_base_link"/>
    <child link="wrist_pitch_link"/>
    <axis xyz="1 0 0"/>
    <limit effort="1000.0" lower="1.57079632679" upper="-1.57079632679" velocity="1"/>
  </joint>
  <transmission name="wrist_pitch_transmission">
    <type>transmission_interface/SimpleTransmission</type>
    <joint name="wrist_pitch_joint">
      <hardwareInterface>hardware_interface/PositionJointInterface</hardwareInterface>
    </joint>
    <actuator name="wrist_pitch_actuator">
      <hardwareInterface>PositionJointInterface</hardwareInterface>
      <mechanicalReduction>1</mechanicalReduction>
    </actuator>
  </transmission>
  <joint name="wrist_yaw_joint" type="revolute">
    <origin rpy="0 0 0" xyz="-0.0333 -0.01845 0.063124"/>
    <parent link="wrist_pitch_link"/>
    <child link="wrist_yaw_link"/>
    <axis xyz="0 -1 0"/>
    <limit effort="1000.0" lower="1.57079632679" upper="-1.57079632679" velocity="1"/>
  </joint>
  <transmission name="wrist_yaw_transmsission">
    <type>transmission_interface/SimpleTransmission</type>
    <joint name="wrist_yaw_joint">
      <hardwareInterface>hardware_interface/PositionJointInterface</hardwareInterface>
    </joint>
    <actuator name="wrist_yaw_actuator">
      <hardwareInterface>PositionJointInterface</hardwareInterface>
      <mechanicalReduction>1</mechanicalReduction>
    </actuator>
  </transmission>
  <joint name="wrist_roll_joint" type="continuous">
    <origin rpy="0 0 -1.5708" xyz="0.0 0.019 0.0454"/>
    <parent link="wrist_yaw_link"/>
    <child link="gripper_base_link"/>
    <axis xyz="0 0 1"/>
  </joint>
  <transmission name="wrist_roll_transmission">
    <type>transmission_interface/SimpleTransmission</type>
    <joint name="wrist_roll_joint">
      <hardwareInterface>hardware_interface/PositionJointInterface</hardwareInterface>
    </joint>
    <actuator name="wrist_roll_actuator">
      <hardwareInterface>PositionJointInterface</hardwareInterface>
      <mechanicalReduction>1</mechanicalReduction>
    </actuator>
  </transmission>
  <!-- GRIPPER DRIVEN JOINTS -->
  <!-- Use the right gripper joint as the "driven" joint -->
  <joint name="gripper_joint" type="continuous">
    <origin rpy="0 -0.348 0" xyz="0.016 0.019 0.0487"/>
    <parent link="gripper_base_link"/>
    <child link="gripper_right_driver_link"/>
    <axis xyz="0 1 0"/>
  </joint>
  <transmission name="gripper_right_driver_transmission">
    <type>transmission_interface/SimpleTransmission</type>
    <joint name="gripper_joint">
      <hardwareInterface>hardware_interface/PositionJointInterface</hardwareInterface>
    </joint>
    <actuator name="gripper_right_driver_actuator">
      <hardwareInterface>PositionJointInterface</hardwareInterface>
      <mechanicalReduction>1</mechanicalReduction>
    </actuator>
  </transmission>
  <!-- Mimic gripper_joint to gripper_left_joint -->
  <joint name="gripper_left_joint" type="continuous">
    <origin rpy="0 0.348 0" xyz="-0.016 0.019 0.0487"/>
    <parent link="gripper_base_link"/>
    <child link="gripper_left_driver_link"/>
    <axis xyz="0 1 0"/>
    <mimic joint="gripper_joint" multiplier="-1"/>
  </joint>
  <transmission name="gripper_left_driver_transmission">
    <type>transmission_interface/SimpleTransmission</type>
    <joint name="gripper_left_joint">
      <hardwareInterface>hardware_interface/PositionJointInterface</hardwareInterface>
    </joint>
    <actuator name="gripper_left_driver_actuator">
      <hardwareInterface>PositionJointInterface</hardwareInterface>
      <mechanicalReduction>1</mechanicalReduction>
    </actuator>
  </transmission>
  <!-- Use gazebo mimic joint plugin to drive the left joint too -->
  <gazebo>
    <plugin filename="libroboticsgroup_gazebo_mimic_joint_plugin.so" name="gripper_mimic_joint_plugin">
      <joint>gripper_joint</joint>
      <mimicJoint>gripper_left_joint</mimicJoint>
      <multiplier>-1</multiplier>
    </plugin>
  </gazebo>
  <!-- GRIPPER DEPENDENT JOINTS
Links aren't driven. Set by the gripper parallel linkage.
The <mimic> elements tell ROS how to set the joint values, used for setting the
robot state.
-->
  <joint name="gripper_left_contact_dependent_joint" type="continuous">
    <origin rpy="0 -0.348 0" xyz="0.0 -0.0024 0.035"/>
    <parent link="gripper_left_driver_link"/>
    <child link="gripper_left_contact_link"/>
    <axis xyz="0 1 0"/>
    <mimic joint="gripper_joint"/>
  </joint>
  <joint name="gripper_right_contact_dependent_joint" type="continuous">
    <origin rpy="0 0.348 0" xyz="0.0 -0.0024 0.035"/>
    <parent link="gripper_right_driver_link"/>
    <child link="gripper_right_contact_link"/>
    <axis xyz="0 1 0"/>
    <mimic joint="gripper_joint" multiplier="-1"/>
  </joint>
  <joint name="gripper_left_linkage_dependent_joint" type="continuous">
    <origin rpy="0 0.348 0" xyz="-0.039616 -0.006 0.0302"/>
    <parent link="gripper_base_link"/>
    <child link="gripper_left_linkage_link"/>
    <axis xyz="0 1 0"/>
    <mimic joint="gripper_joint" multiplier="-1"/>
  </joint>
  <joint name="gripper_right_linkage_dependent_joint" type="continuous">
    <origin rpy="0 -0.348 0" xyz="0.039616 -0.006 0.0302"/>
    <parent link="gripper_base_link"/>
    <child link="gripper_right_linkage_link"/>
    <axis xyz="0 1 0"/>
    <mimic joint="gripper_joint"/>
  </joint>
  <!-- GAZEBO GRIPPER LINKAGE
Currently not used, since neither option works particularly well
-->
  <!-- OPTION 1: Use mimic joints plugin
Will drive the dependent angles with the correct angles.
Problem: The contact links seem to drift for some reason.
-->
  <!--
<gazebo>
<xacro:mimic_joint_plugin_gazebo
    parent_joint="gripper_left_joint" mimic_joint="gripper_left_contact_dependent_joint"
    multiplier="-1.0"/>

<xacro:mimic_joint_plugin_gazebo
    parent_joint="gripper_right_joint" mimic_joint="gripper_right_contact_dependent_joint"
    multiplier="-1.0"/>

<xacro:mimic_joint_plugin_gazebo
    parent_joint="gripper_left_joint" mimic_joint="gripper_left_linkage_dependent_joint"
    multiplier="1.0"/>

<xacro:mimic_joint_plugin_gazebo
    parent_joint="gripper_right_joint" mimic_joint="gripper_right_linkage_dependent_joint"
    multiplier="1.0"/>
</gazebo>
-->
  <!-- OPTION 2: Add joints to close the parallel linkages
Can't include these in the standard model, since ROS doesn't support parallel linkages.
However, Gazebo implements joints as a list of constraints that must be satisfied,
so you can add whatever joints you want.
Problem: Can close the parallel linkage, but doesn't respond to angle
commands and just stays stuck or becomes unstable.
-->
  <!--
<gazebo>

<joint name='gripper_left_linkage_dependent_joint2' type='revolute'>
  <pose>-0.0235 -0.0225 -0.0185 0 0 0</pose>
  <child>gripper_left_contact_link</child>
  <parent>gripper_left_linkage_link</parent>
  <axis>
    <xyz>-4e-06 1 -4e-06</xyz>
    <limit>
      <lower>-1e+16</lower>
      <upper>1e+16</upper>
    </limit>
    <dynamics>
      <spring_reference>0</spring_reference>
      <spring_stiffness>0</spring_stiffness>
    </dynamics>
    <use_parent_model_frame>1</use_parent_model_frame>
  </axis>
</joint>

<joint name='gripper_right_linkage_dependent_joint2' type='revolute'>
  <pose>0.0235 -0.0225 -0.0185 0 0 0</pose>
  <child>gripper_right_contact_link</child>
  <parent>gripper_right_linkage_link</parent>
  <axis>
    <xyz>-4e-06 1 -4e-06</xyz>
    <limit>
      <lower>-1e+16</lower>
      <upper>1e+16</upper>
    </limit>
    <dynamics>
      <spring_reference>0</spring_reference>
      <spring_stiffness>0</spring_stiffness>
    </dynamics>
    <use_parent_model_frame>1</use_parent_model_frame>
  </axis>
</joint>

</gazebo>
-->
</robot>
